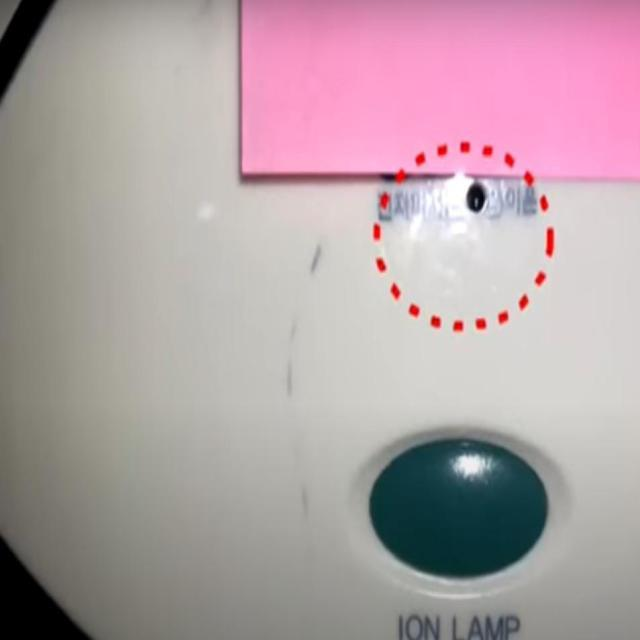hidden camera: (464, 176, 491, 217)
